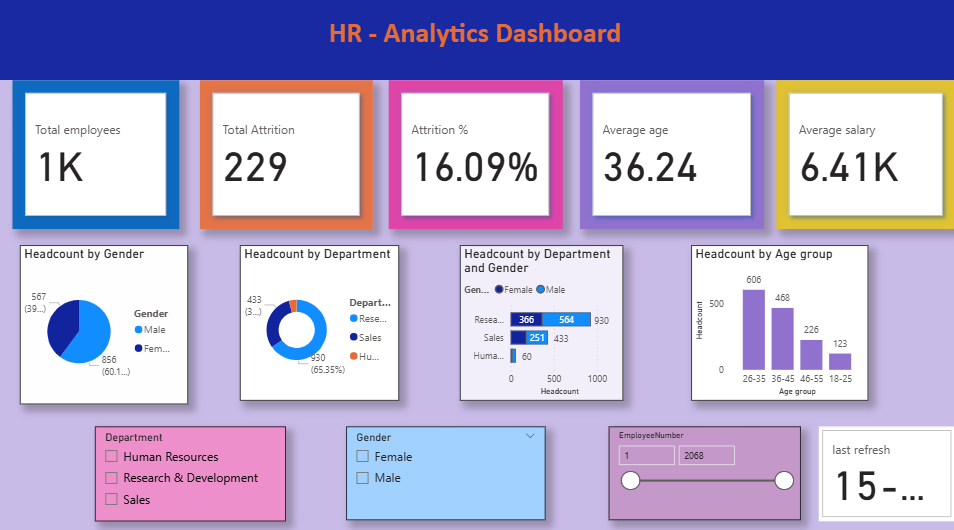

Layout of this report page (visuals, bound fields, positions):
{"tool":"powerbi","page":{"name":"Page 1","canvas":[1280,720],"ordinal":0},"visuals":[{"type":"cardVisual","fields":{"Data":["HR data.Total employees"]},"box":[22.9,108.2,222.5,198.1],"z":0},{"type":"cardVisual","fields":{"Data":["HR data.Total Attrition"]},"box":[272.8,108.2,230.2,198.1],"z":1000},{"type":"cardVisual","fields":{"Data":["HR data.Attrition %"]},"box":[524.3,108.2,231.7,198.1],"z":2000},{"type":"cardVisual","fields":{"Data":["HR data.Average salary"]},"box":[1041,108.2,239.3,198.1],"z":3000},{"type":"cardVisual","fields":{"Data":["HR data.Average age"]},"box":[780.4,108.2,245.4,198.1],"z":4000},{"type":"pieChart","fields":{"Category":["HR data.Gender"],"Y":["HR data.Headcount"]},"box":[33.5,327.7,224.1,211.9],"z":5000},{"type":"donutChart","fields":{"Category":["HR data.Department"],"Y":["HR data.Headcount"]},"box":[326.2,327.7,211.9,207.3],"z":6000},{"type":"barChart","fields":{"Category":["HR data.Department"],"Y":["HR data.Headcount"],"Series":["HR data.Gender"]},"box":[620.3,327.7,218,207.3],"z":7000},{"type":"clusteredColumnChart","fields":{"Category":["HR data.Age group"],"Y":["HR data.Headcount"]},"box":[928.2,327.7,236.2,207.3],"z":8000},{"type":"slicer","fields":{"Values":["HR data.Department"]},"box":[134.1,570,254.5,126.5],"z":9000},{"type":"slicer","fields":{"Values":["HR data.Gender"]},"box":[467.9,570,265.2,125],"z":10000},{"type":"slicer","fields":{"Values":["HR data.EmployeeNumber"]},"box":[818.5,570,256.1,125],"z":11000},{"type":"textbox","box":[0,0,1280.3,108.2],"z":12000},{"type":"cardVisual","fields":{"Data":["HR data.last refresh"]},"box":[1097.8,569.5,182.5,126.2],"z":13000}]}

Visuals, with their boxes in screenshot pixels (x1, y1, x2, y2), scaled from the page's 1280x720 canvas onto the 954x530 screenshot:
cardVisual - HR data.Total employees: BBox(17, 80, 183, 225)
cardVisual - HR data.Total Attrition: BBox(203, 80, 375, 225)
cardVisual - HR data.Attrition %: BBox(391, 80, 563, 225)
cardVisual - HR data.Average salary: BBox(776, 80, 953, 225)
cardVisual - HR data.Average age: BBox(582, 80, 765, 225)
pieChart - HR data.Gender x HR data.Headcount: BBox(25, 241, 192, 397)
donutChart - HR data.Department x HR data.Headcount: BBox(243, 241, 401, 394)
barChart - HR data.Department x HR data.Headcount: BBox(462, 241, 625, 394)
clusteredColumnChart - HR data.Age group x HR data.Headcount: BBox(692, 241, 868, 394)
slicer - HR data.Department: BBox(100, 420, 290, 513)
slicer - HR data.Gender: BBox(349, 420, 546, 512)
slicer - HR data.EmployeeNumber: BBox(610, 420, 801, 512)
textbox: BBox(0, 0, 953, 80)
cardVisual - HR data.last refresh: BBox(818, 419, 953, 512)
